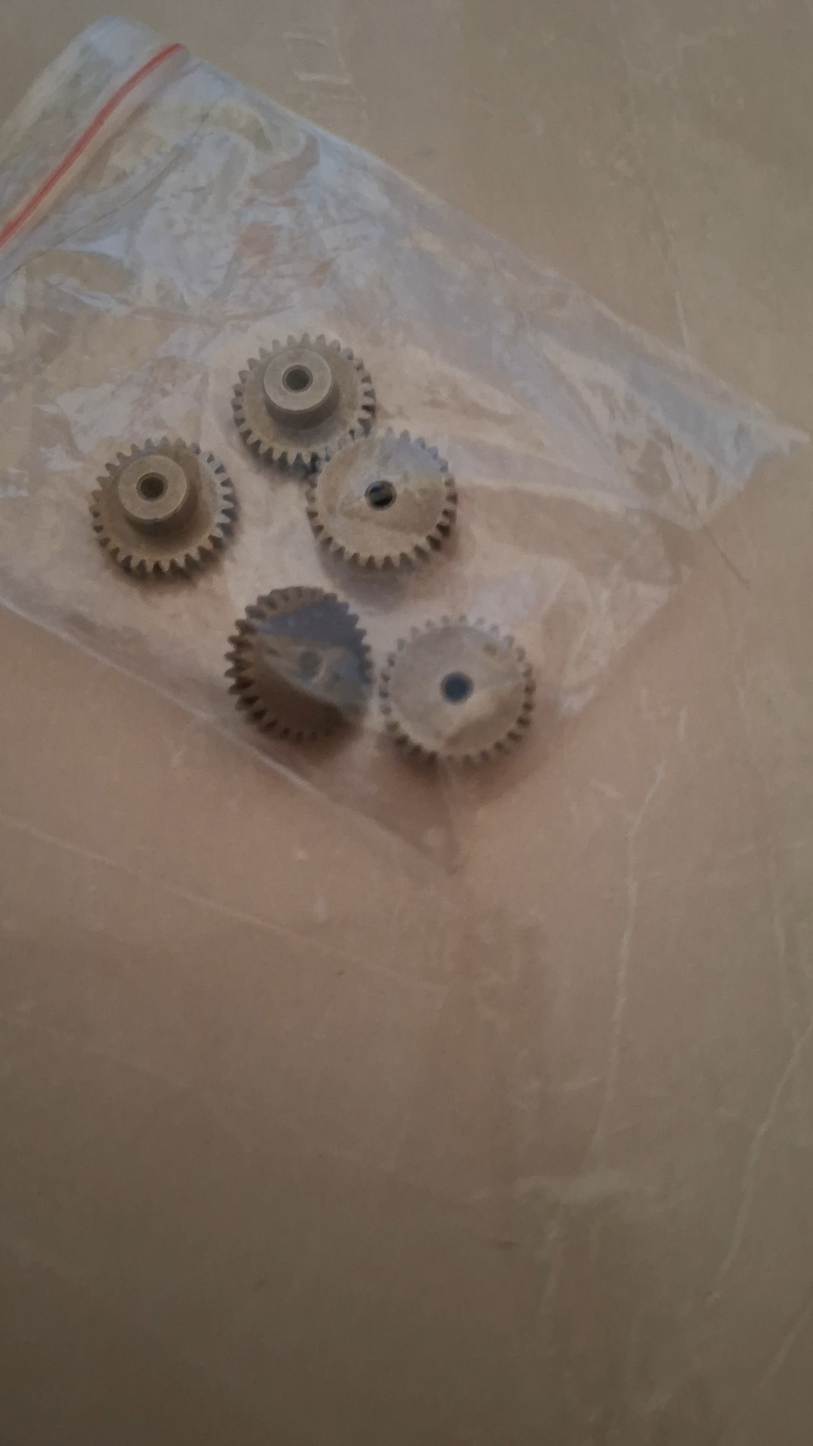spur gear: (380, 616, 534, 762), (227, 587, 372, 741), (308, 430, 456, 567), (90, 438, 236, 576), (233, 335, 375, 467)
